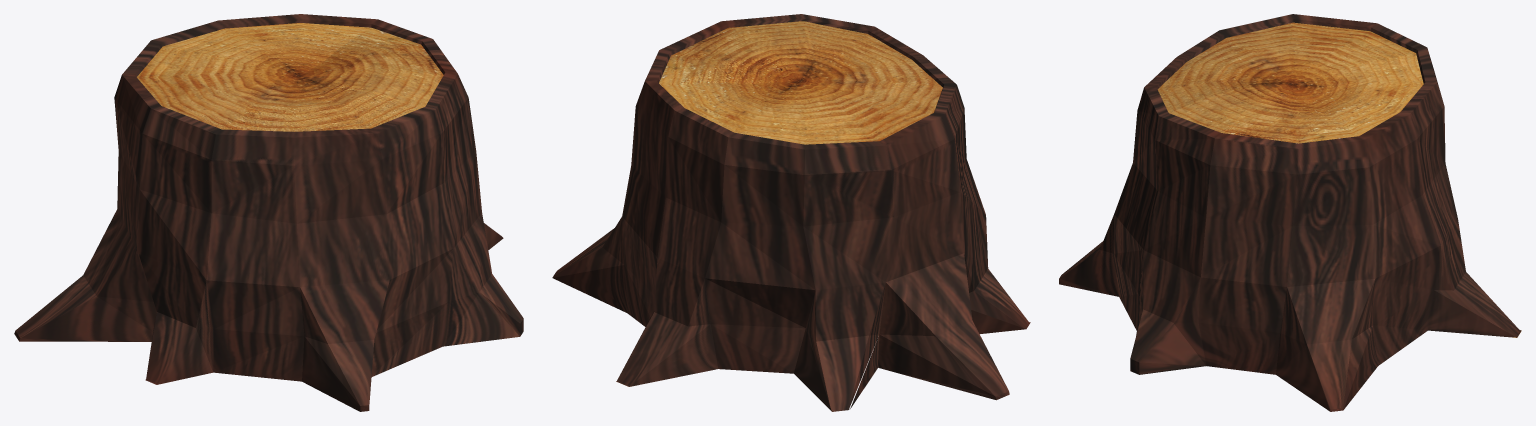
Rendered from Tree stump.glb.
3 renders of one model, left to right at view 1: azimuth 30°, elevation 25°; view 2: azimuth 150°, elevation 25°; view 3: azimuth 270°, elevation 25°, orthographic. The views are drawn at different scales.
Visible parts, largest first — view 1: Node; view 2: Node; view 3: Node.
Part boxes in pixels (x1,y1,x2,y2): Node: (14, 14, 523, 411); Node: (552, 14, 1030, 411); Node: (1059, 14, 1521, 411).
Size of the model in its own units: 8.03 by 3.97 by 7.16.
1 material, 1 textured.
